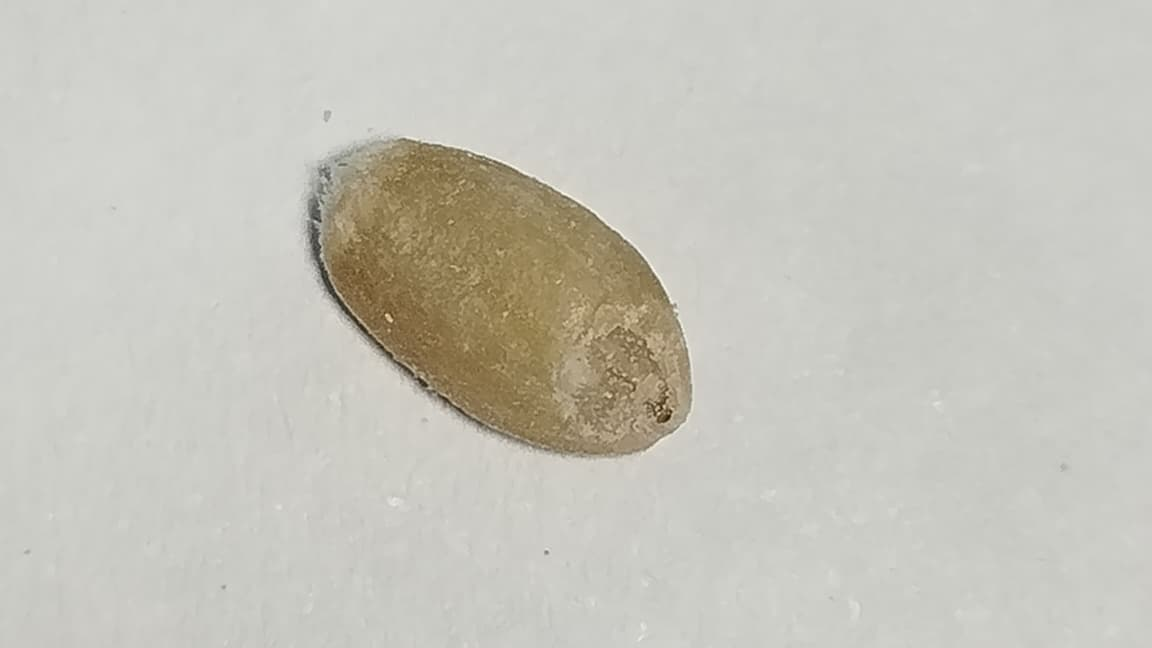damage: (319, 138, 691, 454)
insectdamage: (532, 295, 677, 452)
